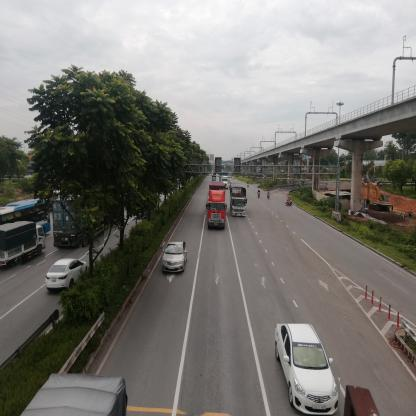bus: (2, 196, 50, 224)
car: (276, 325, 341, 416), (48, 252, 87, 297), (164, 243, 188, 280)
container: (210, 184, 226, 231)
motorbike: (54, 194, 105, 249), (286, 198, 293, 208), (268, 190, 271, 199), (259, 192, 262, 200)
truck: (2, 222, 47, 267), (232, 184, 247, 218)
